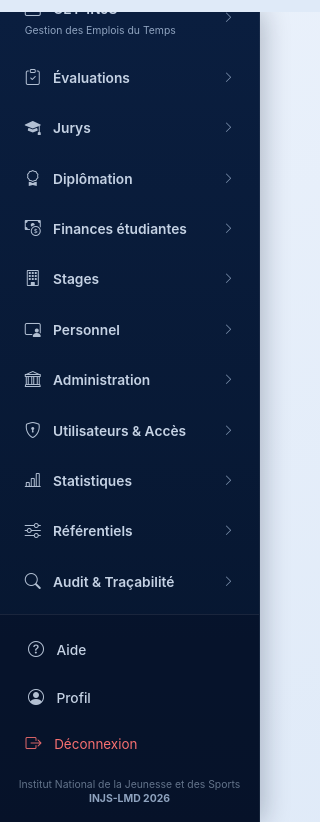
Test: comportement de la navigation › kill-switch fermé : les entrées de console disparaissent même pour un super-compte
The image size is (320, 822).
(page scrolled)
Click the button "Audit & Traçabilité".
click(130, 582)  # box [10,559,249,604]
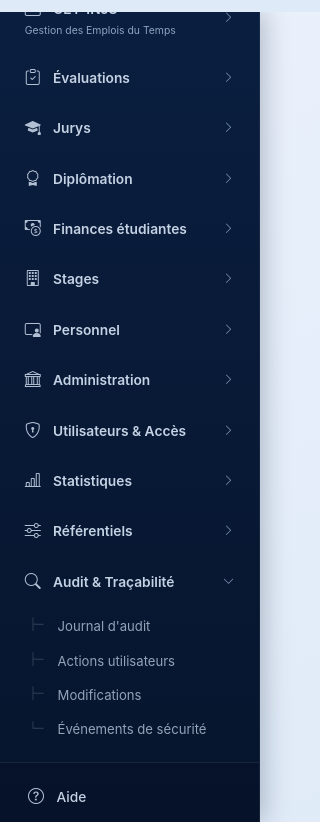
Now the link with test id "nav-audit.journal" is shown, box [58,618,150,634]
